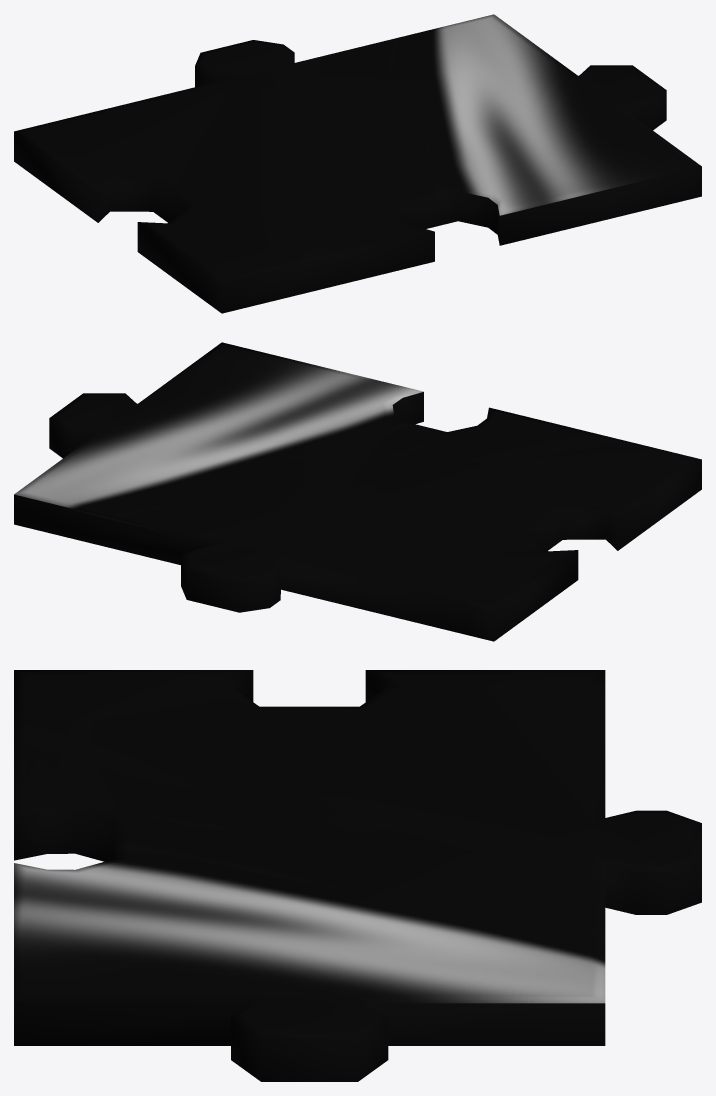
The model's file is carpet_puzzle.fbx.
The picture shows the model from 3 angles, top to bottom: view 1: azimuth 30°, elevation 25°; view 2: azimuth 150°, elevation 25°; view 3: azimuth 270°, elevation 25°; orthographic projection. The views are drawn at different scales.
Visible parts, largest first — view 1: Plane; view 2: Plane; view 3: Plane.
Boxes of the visible parts, x1=… form: Plane: x1=14, y1=14, x2=701, y2=313; Plane: x1=14, y1=342, x2=701, y2=641; Plane: x1=14, y1=670, x2=701, y2=1081.
Size of the model in its own units: 73.84 by 4.16 by 58.18.
